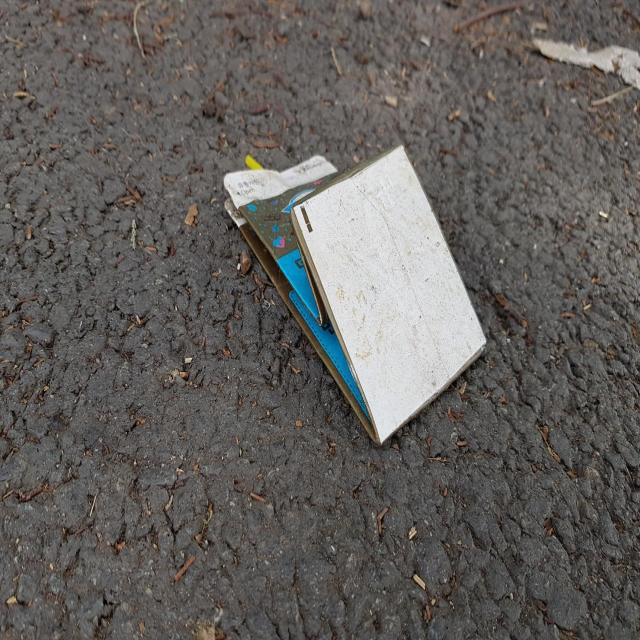paperpack: (224, 144, 486, 444)
